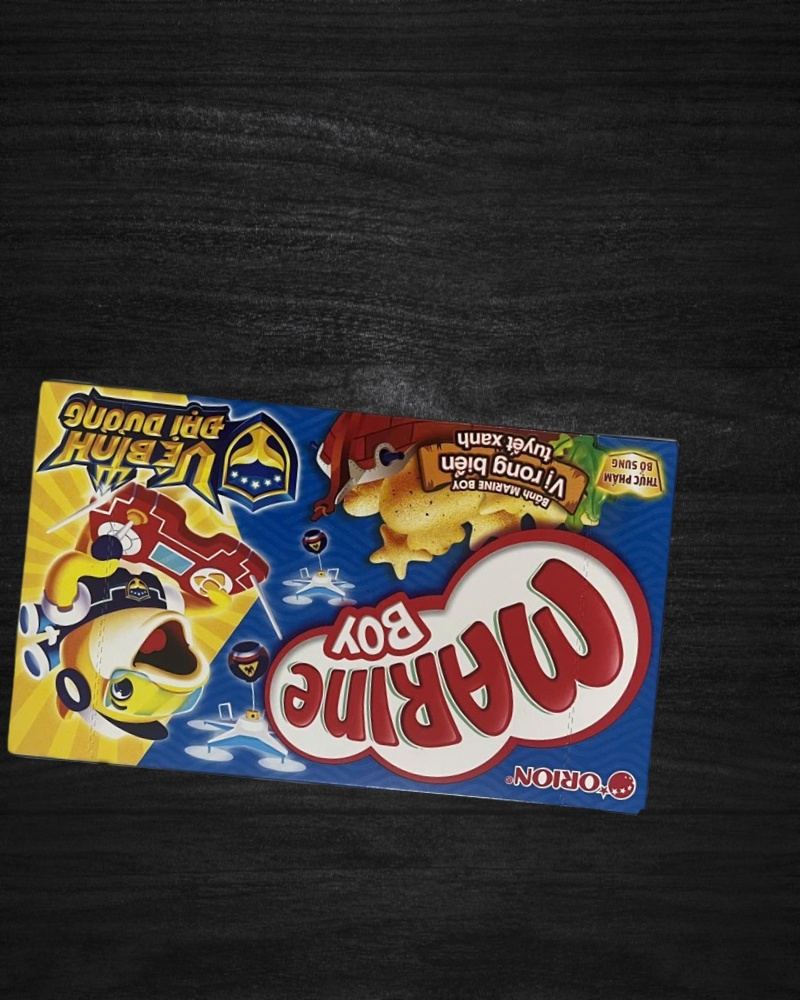Marine: (5, 379, 681, 816)
